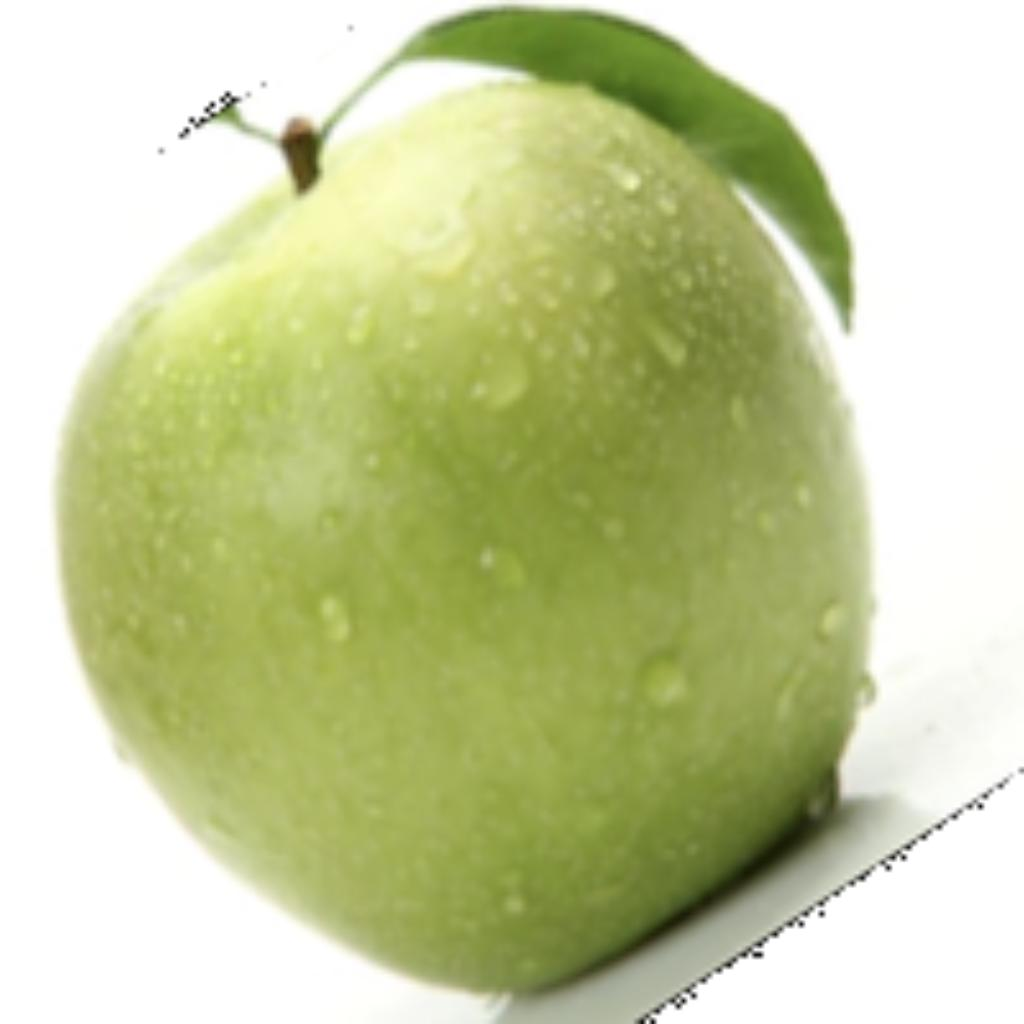apple: (46, 0, 968, 1019)
